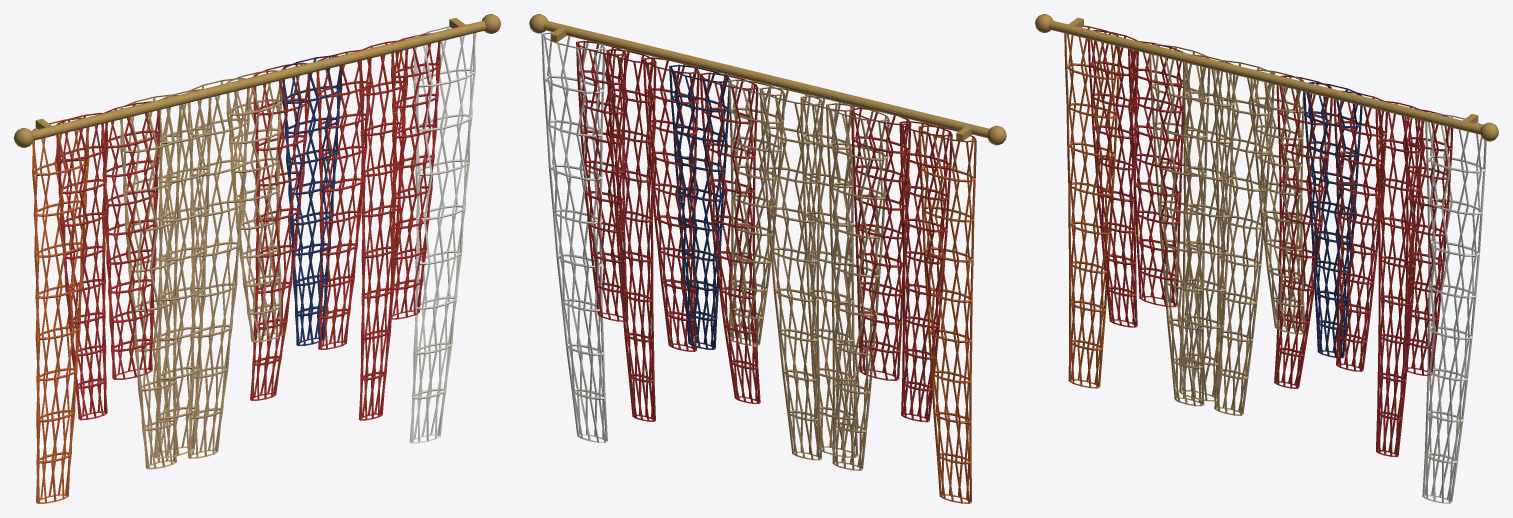
The model's file is allnet.glb.
3 views of the same model, side by side, from view 1: azimuth 30°, elevation 25°; view 2: azimuth 150°, elevation 25°; view 3: azimuth 330°, elevation 25° (orthographic). The views are drawn at different scales.
Visible parts, largest first — view 1: net.012, net, net.004, net.005, net.010, net.003, net.002, net.007, net.001, net.009, net.008, net.011 (+2 smaller); view 2: net.012, net, net.005, net.003, net.010, net.004, net.007, net.001, net.002, net.008, net.009, net.006 (+2 smaller); view 3: net.012, net, net.005, net.004, net.010, net.003, net.007, net.002, net.001, net.009, net.006, net.008 (+2 smaller).
Part boxes in pixels (x1,y1,x2,y2): net.012: (409,24,476,443); net: (32,117,89,503); net.004: (154,88,211,458); net.005: (187,77,249,458); net.010: (358,40,408,420); net.003: (120,94,182,469); net.002: (101,101,160,379); net.007: (250,62,310,400); net.001: (56,112,108,420); net.009: (316,49,371,349); net.008: (282,55,342,345); net.011: (388,33,440,319); net.012: (541,32,607,443); net: (918,125,976,503); net.005: (759,86,823,460); net.003: (826,103,889,470); net.010: (606,49,656,421); net.004: (800,95,858,457); net.007: (699,72,760,404); net.001: (899,121,952,422); net.002: (851,107,911,380); net.008: (669,64,730,349); net.009: (643,57,699,351); net.006: (728,79,785,346); net.012: (1422,113,1486,503); net: (1064,25,1120,388); net.005: (1213,60,1274,415); net.004: (1179,54,1235,401); net.010: (1375,100,1423,457); net.003: (1149,44,1210,406); net.007: (1274,75,1332,388); net.002: (1128,40,1185,307); net.001: (1087,30,1138,327); net.009: (1333,90,1387,371); net.006: (1250,69,1305,334); net.008: (1303,82,1362,358).
Bounding box in the file's own units: 1.45 × 1.19 × 0.0965.
